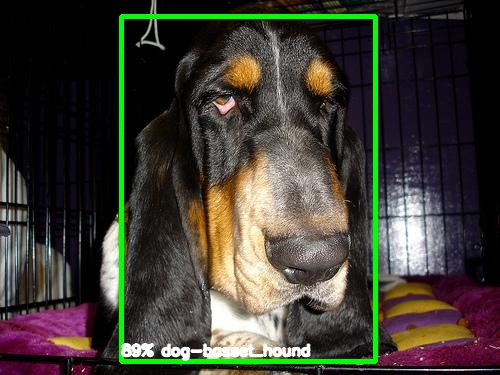dog-basset_hound: (90, 3, 397, 374)
